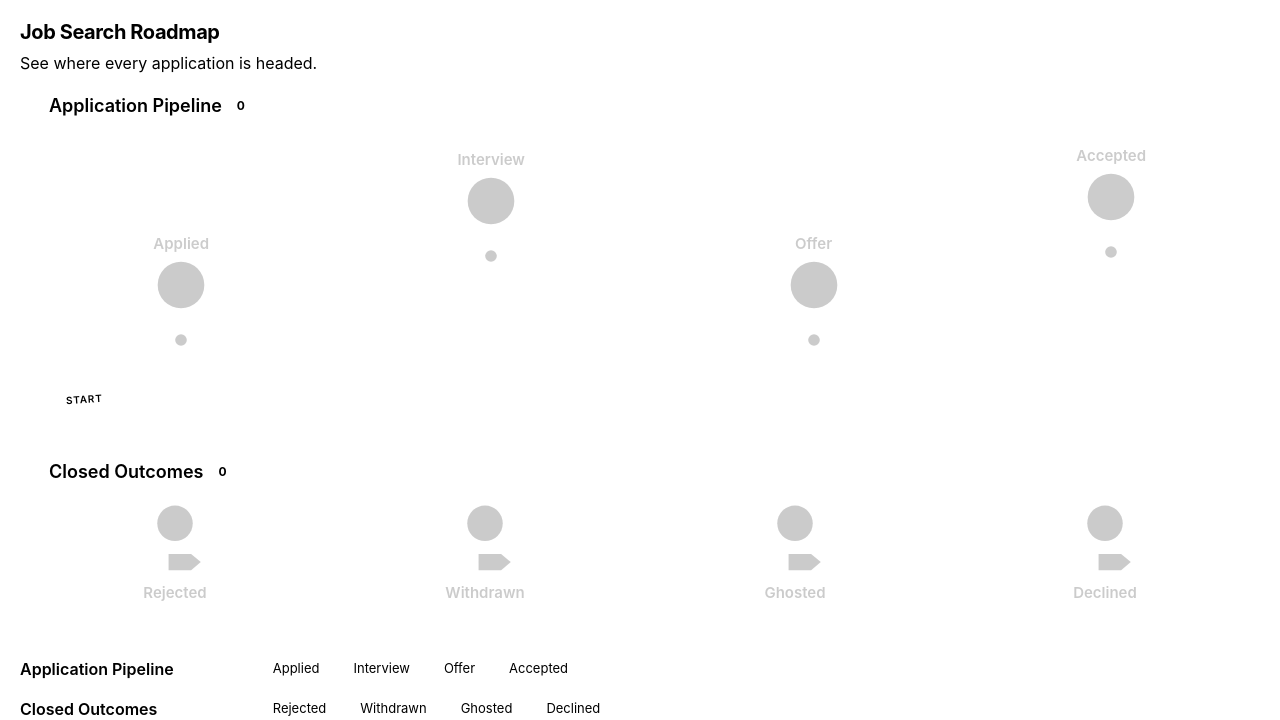
Test: Dashboard V2 › allows an all-zero pipeline to hide and restore every marker
This screenshot has width=1280, height=720.
Click the button with aria-label "Hide Applied stage" at (288, 669), box [257, 659, 319, 679]
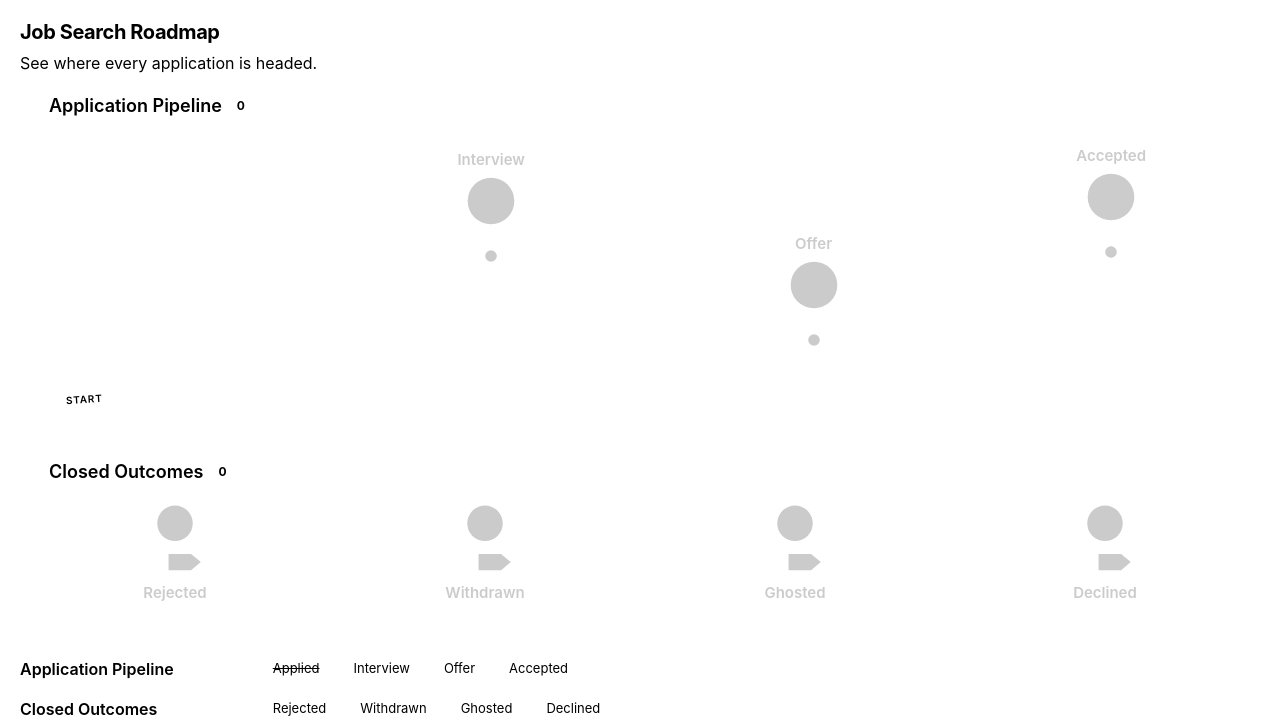
Click the button with aria-label "Hide Interview stage" at (374, 669), box [338, 659, 410, 679]
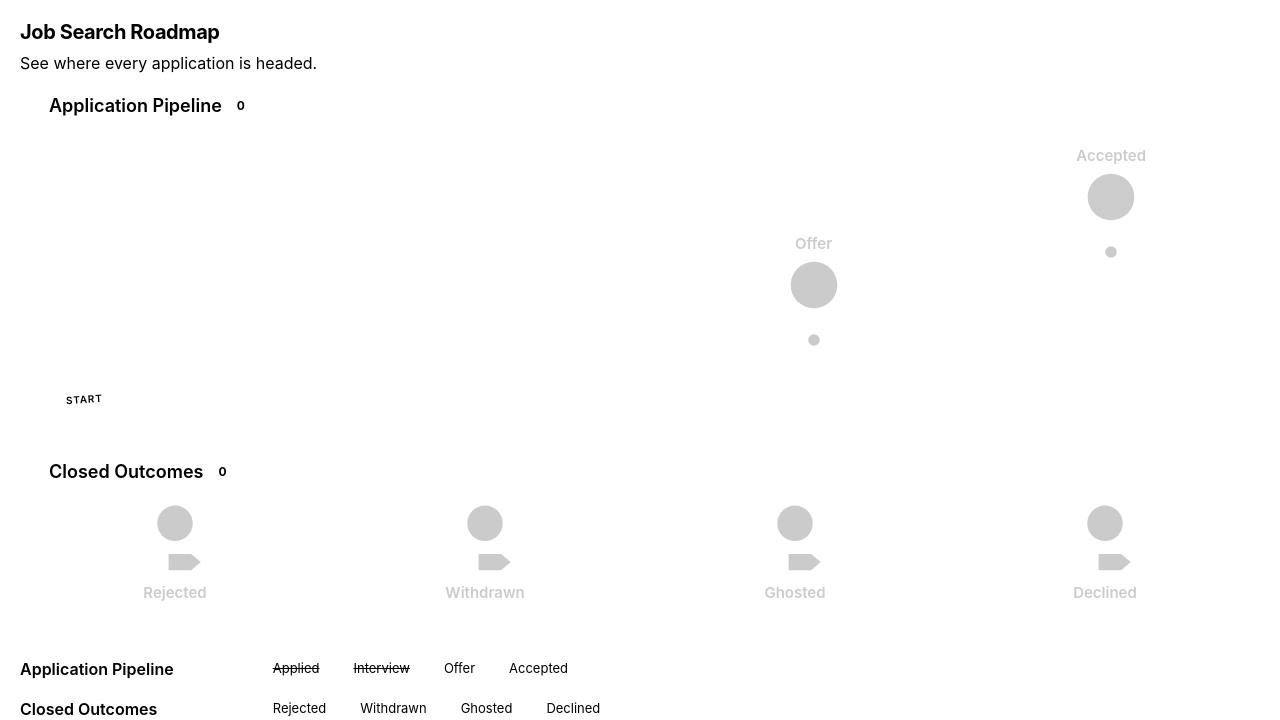
Click the button with aria-label "Hide Offer stage" at (452, 669), box [428, 659, 475, 679]
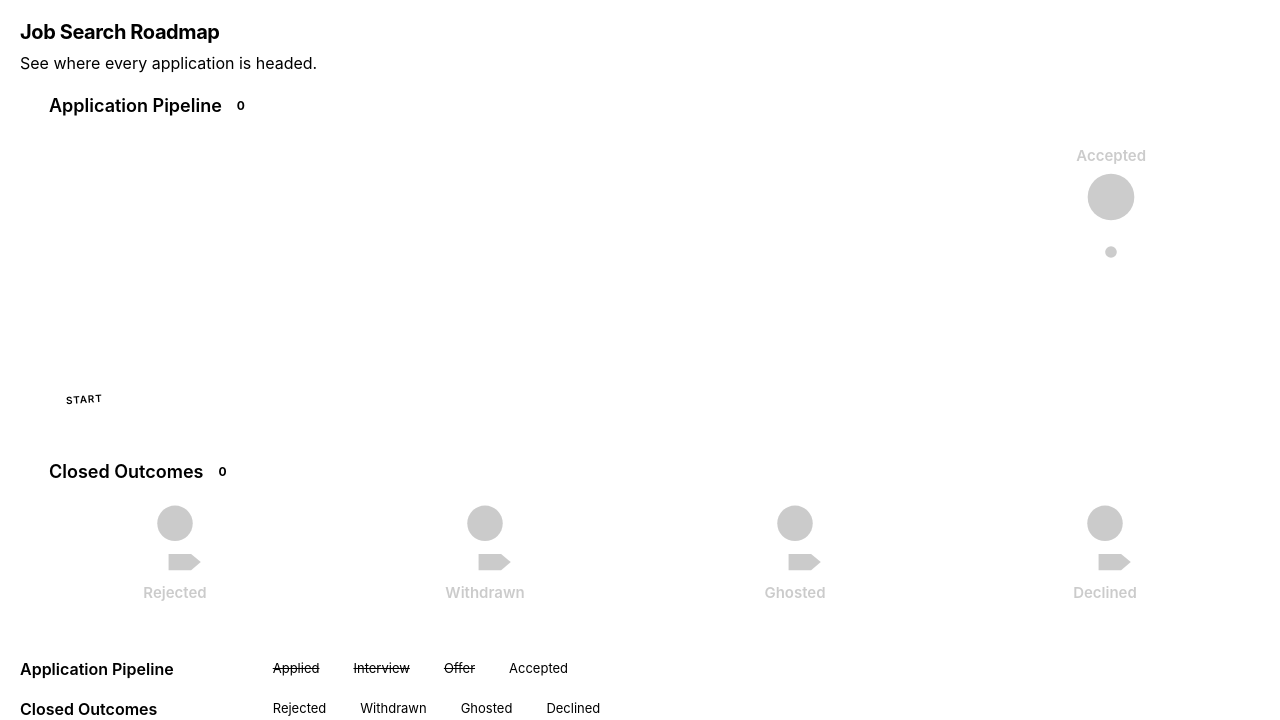
Click the button "Accepted" at (530, 669), box [493, 659, 568, 679]
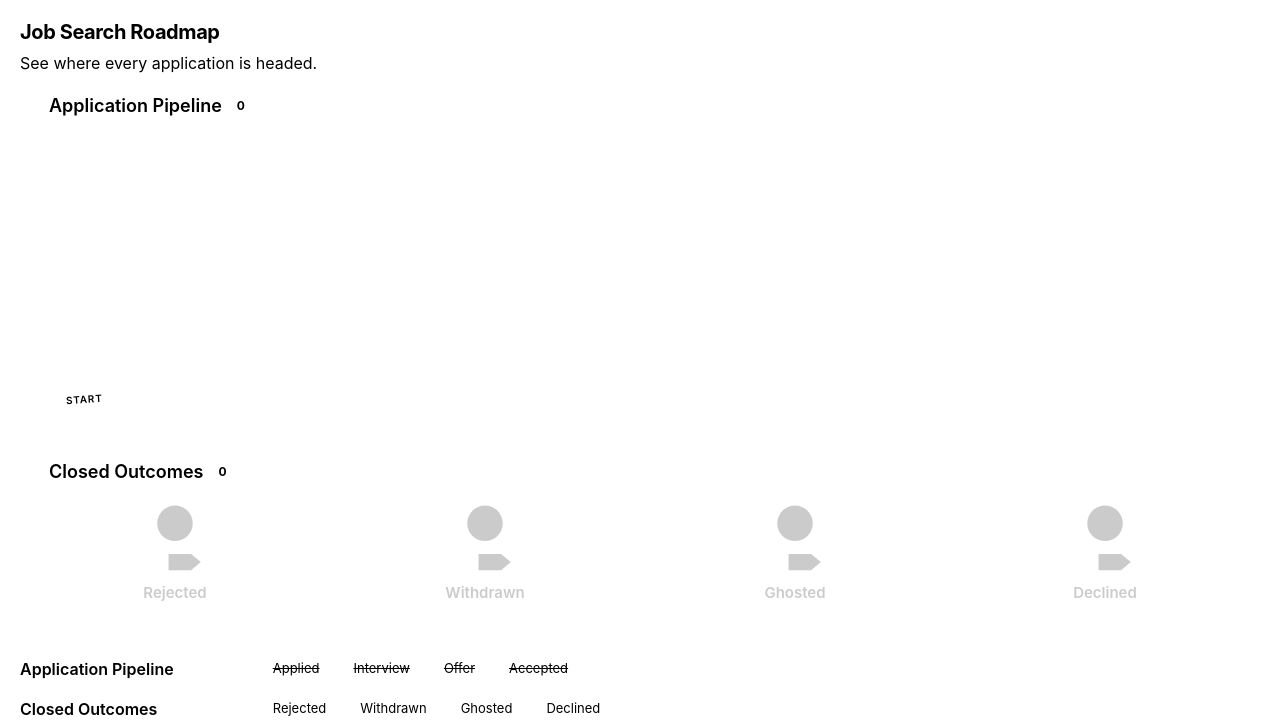
Result: the list named "Application pipeline. All stages hidden" is shown at [20, 118, 1260, 425]
Click the button with aria-label "Show Applied stage" at (288, 669), box [257, 659, 319, 679]
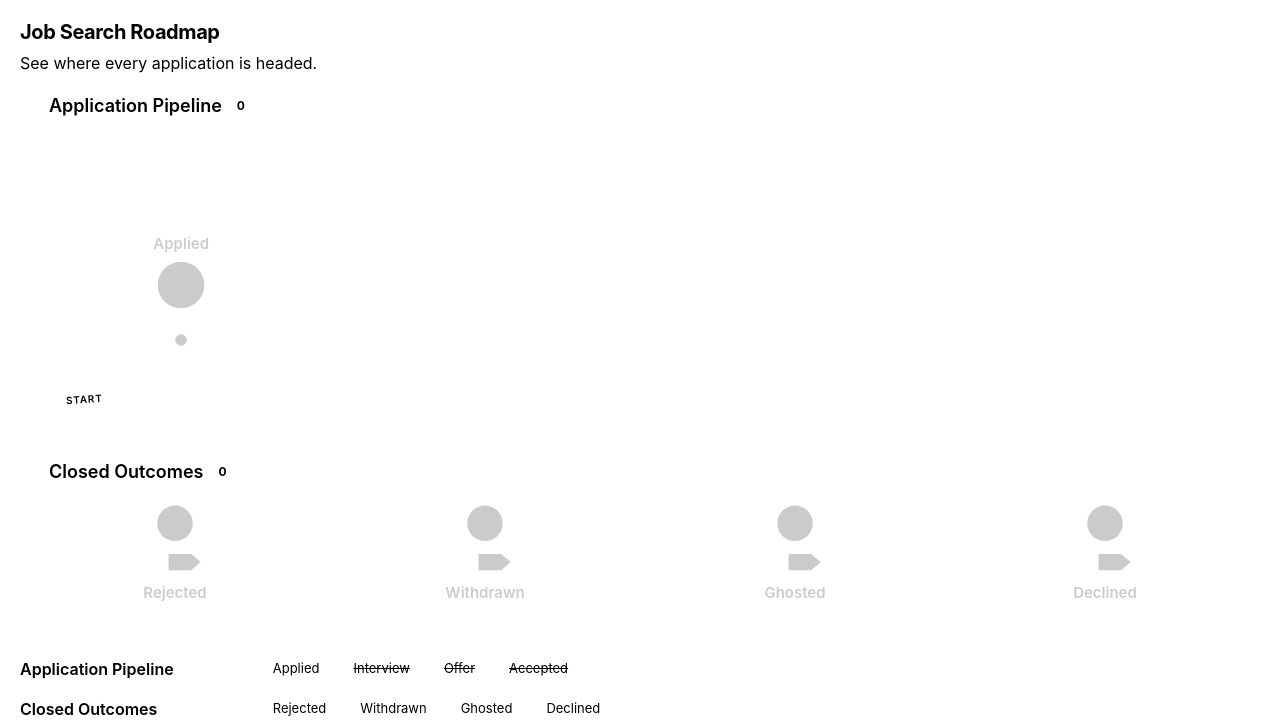
Result: the picture named "Applied: 0 applications" is shown at [151, 234, 211, 340]
